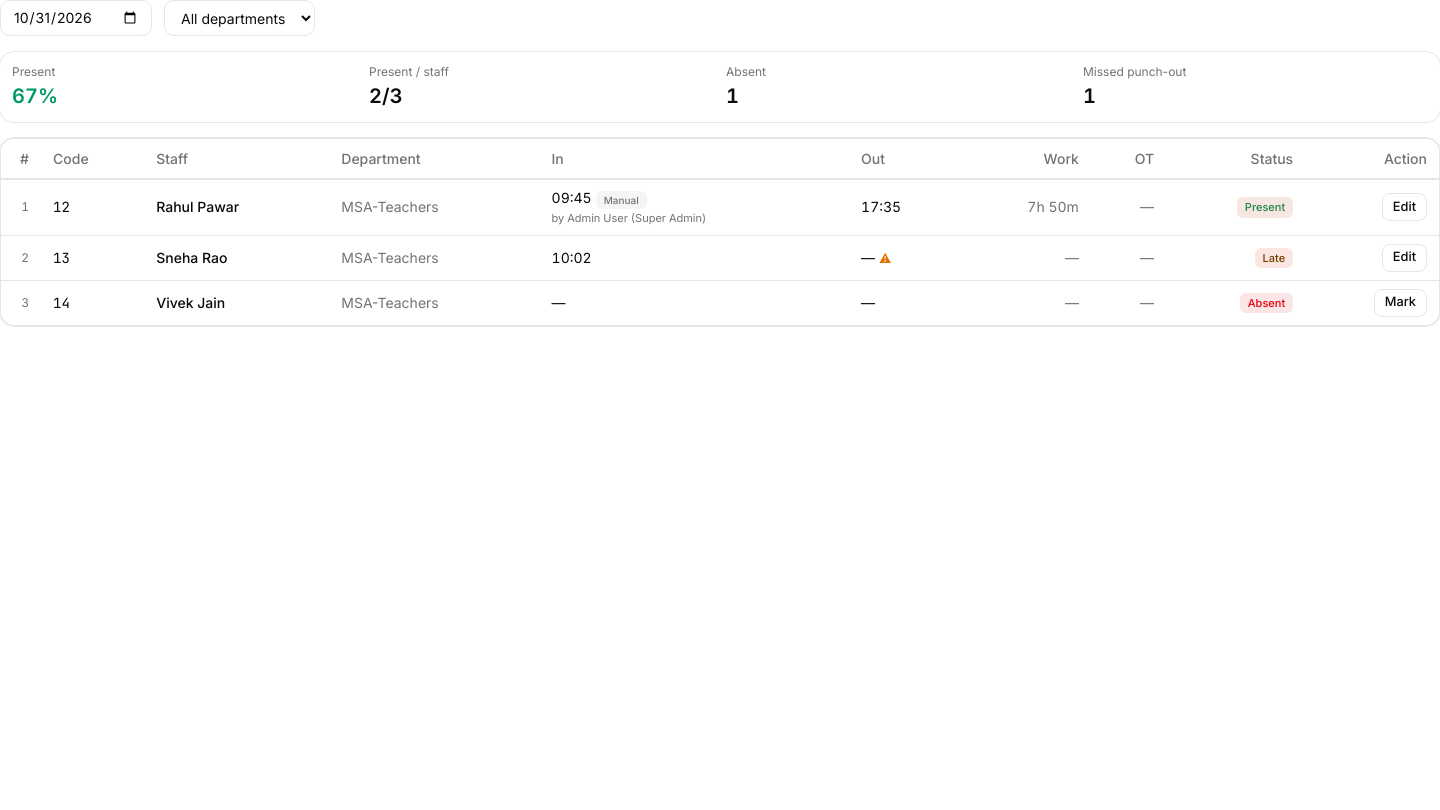
Test case: StaffDayRegister › opens the manual-mark dialog from the Mark button
Click the button "Mark".
click(1400, 302)  # box [1374,288,1427,316]
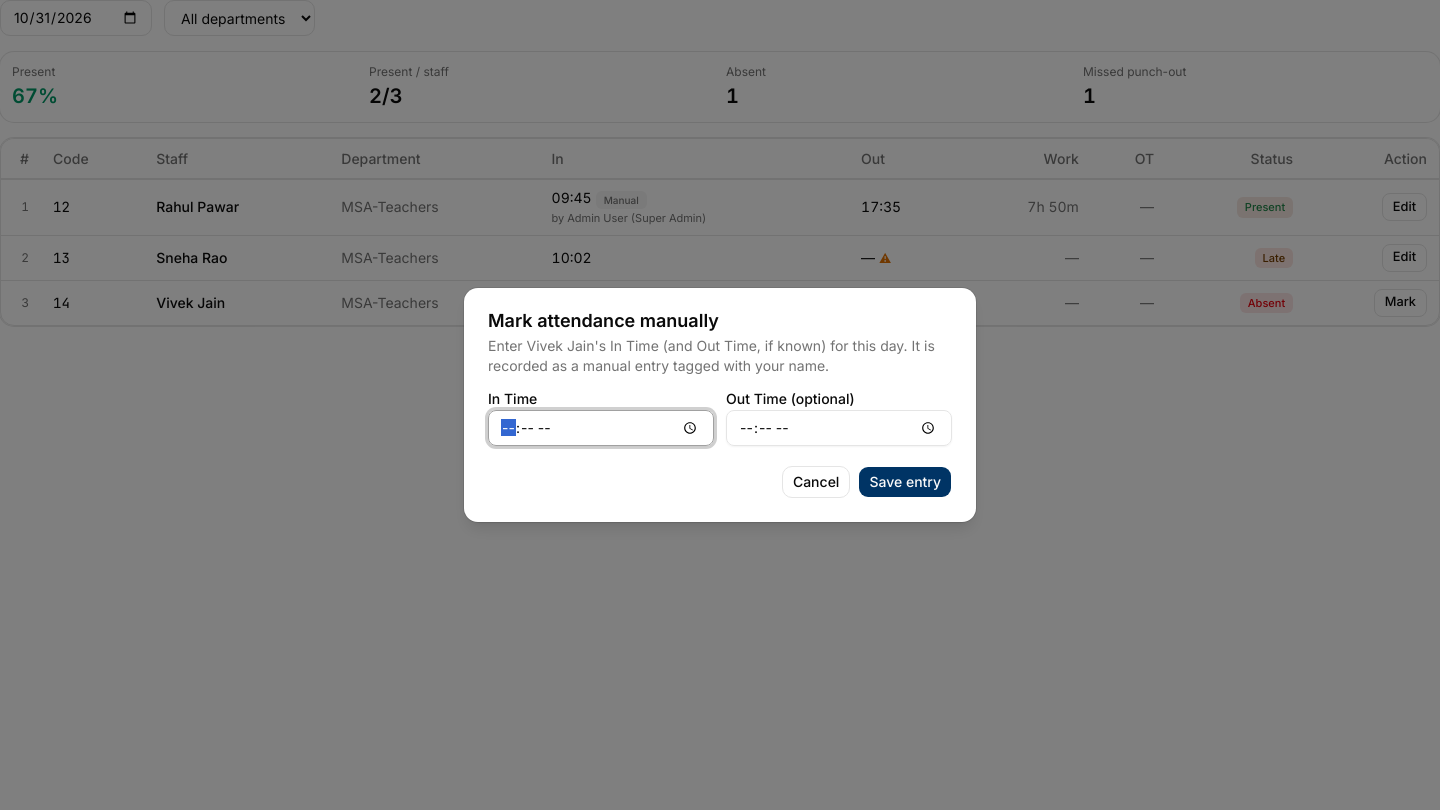
Now the heading "Mark attendance manually" is shown, box [488,310,719,331]
Now the time field labelled "In Time" is shown, box [488,410,714,446]
Now the time field labelled "Out Time (optional)" is shown, box [726,410,952,446]
